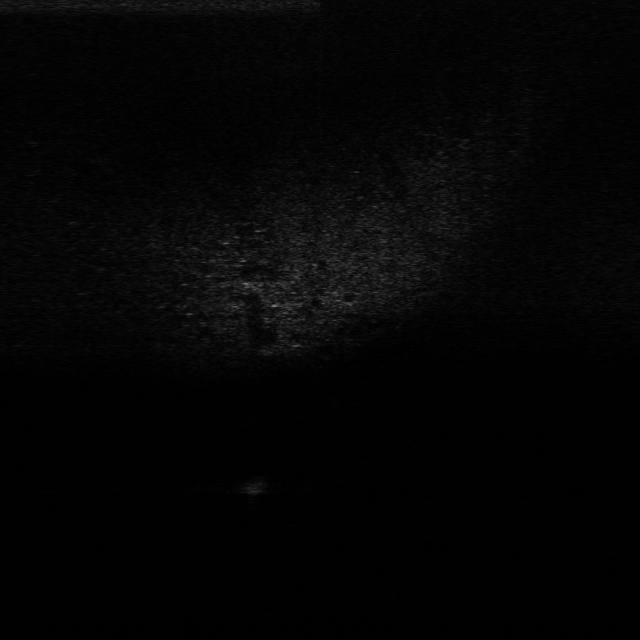cylinder: (242, 473, 267, 499)
